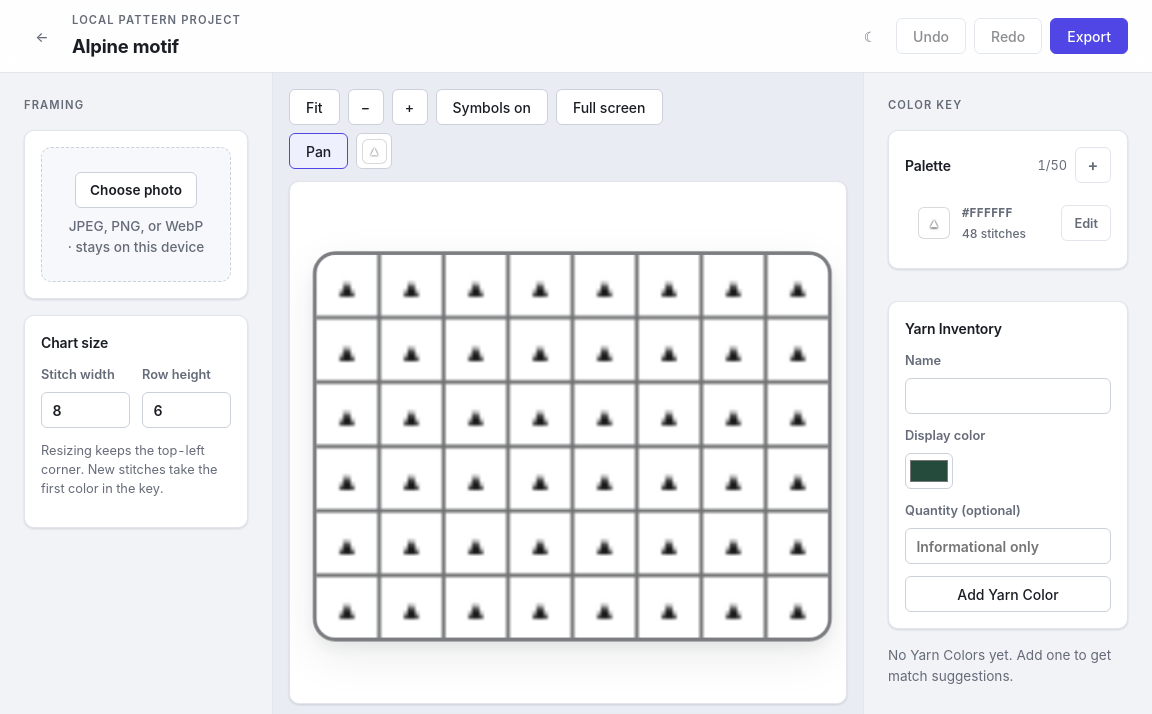
Studio with a blank-canvas project › keeps paint bar and Color Key on one shared selection
Click the button named "add palette color": [1093, 165] box [1075,147,1111,183]
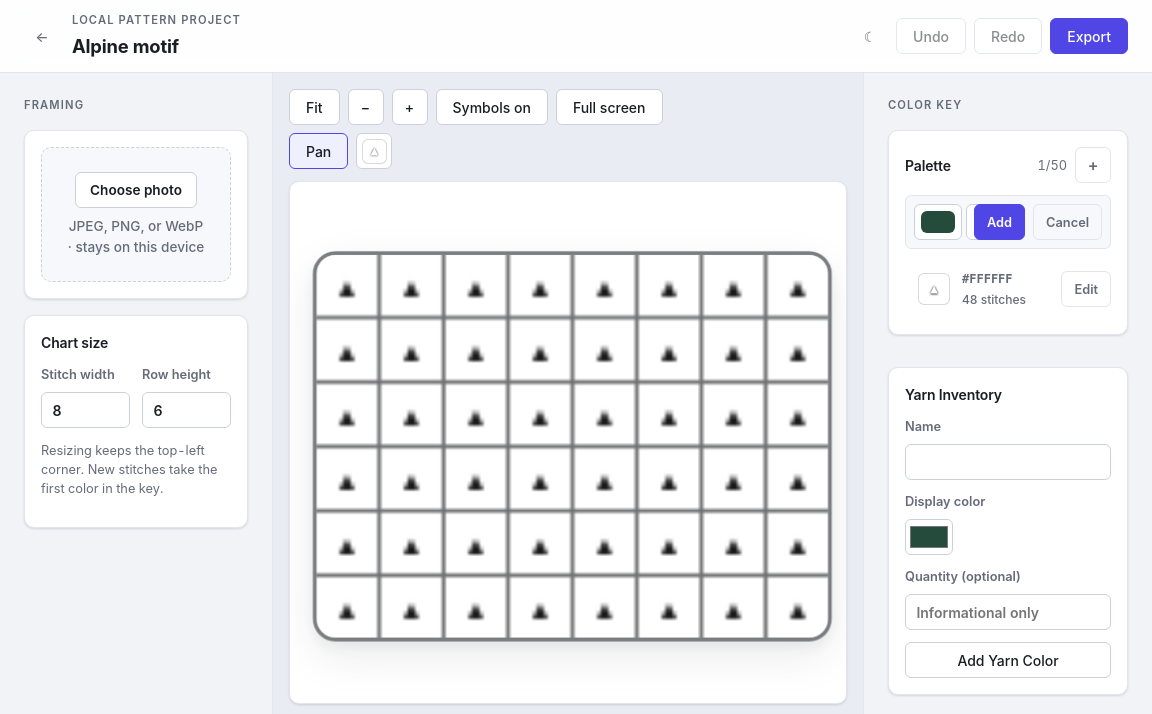
Click the button "Add": [1000, 222] box [974,204,1025,240]
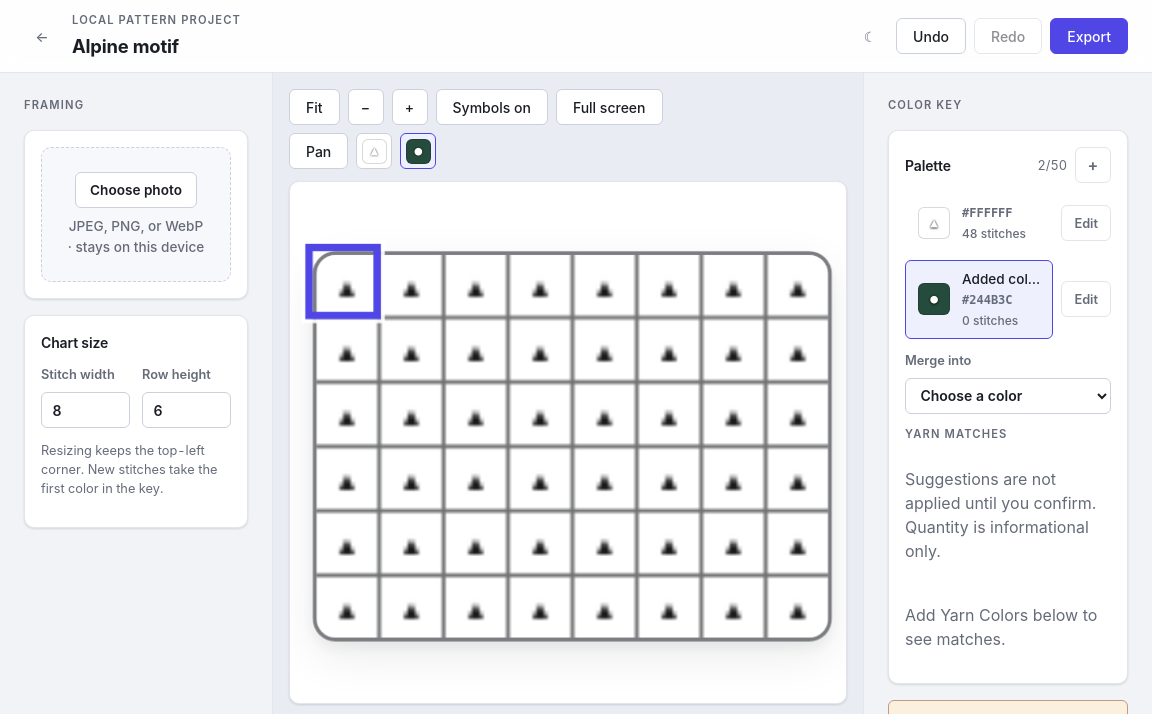
Expected: the element named "chart paint area" is shown, [289,181,847,704]
Expected: the dropdown named "merge into color" is shown, [905,378,1111,414]
Click the button "Pan": [319, 151] box [289,133,348,169]
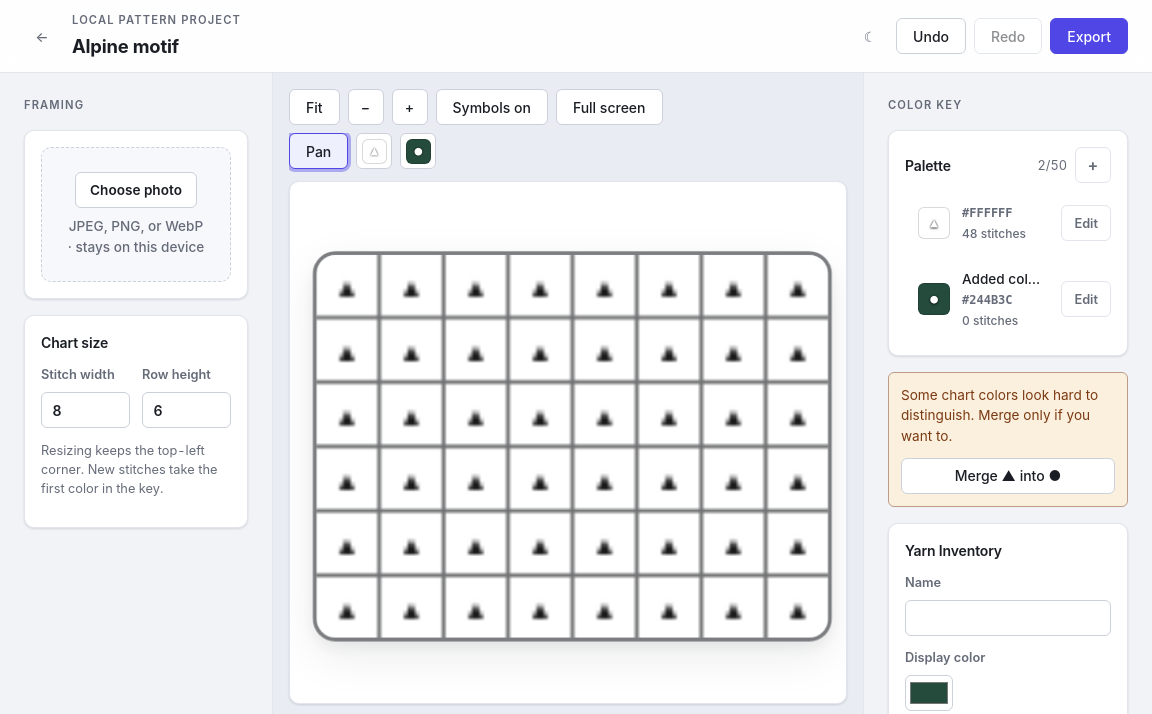
Expected: the text "Add Cancel" is not shown
Expected: the element named "chart pan and zoom area" is shown, [289,181,847,704]
